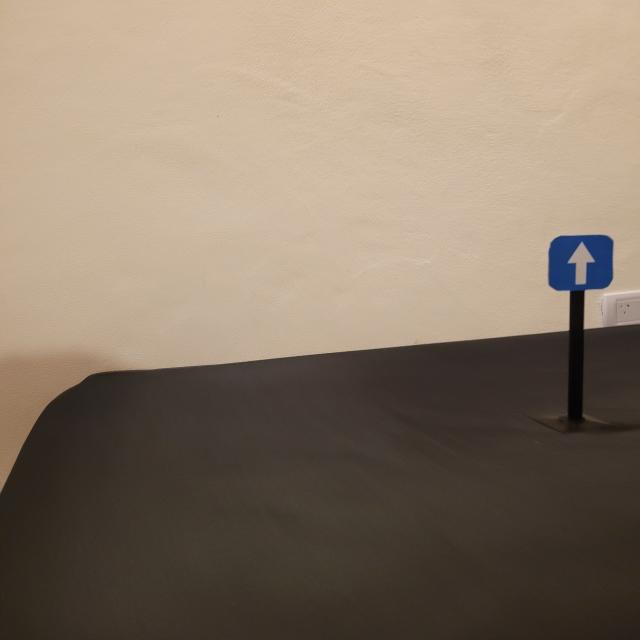one_way: (547, 234, 614, 291)
